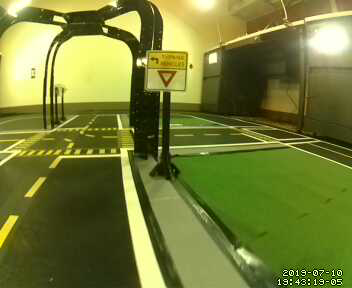Turn Yield: (144, 49, 188, 93)
